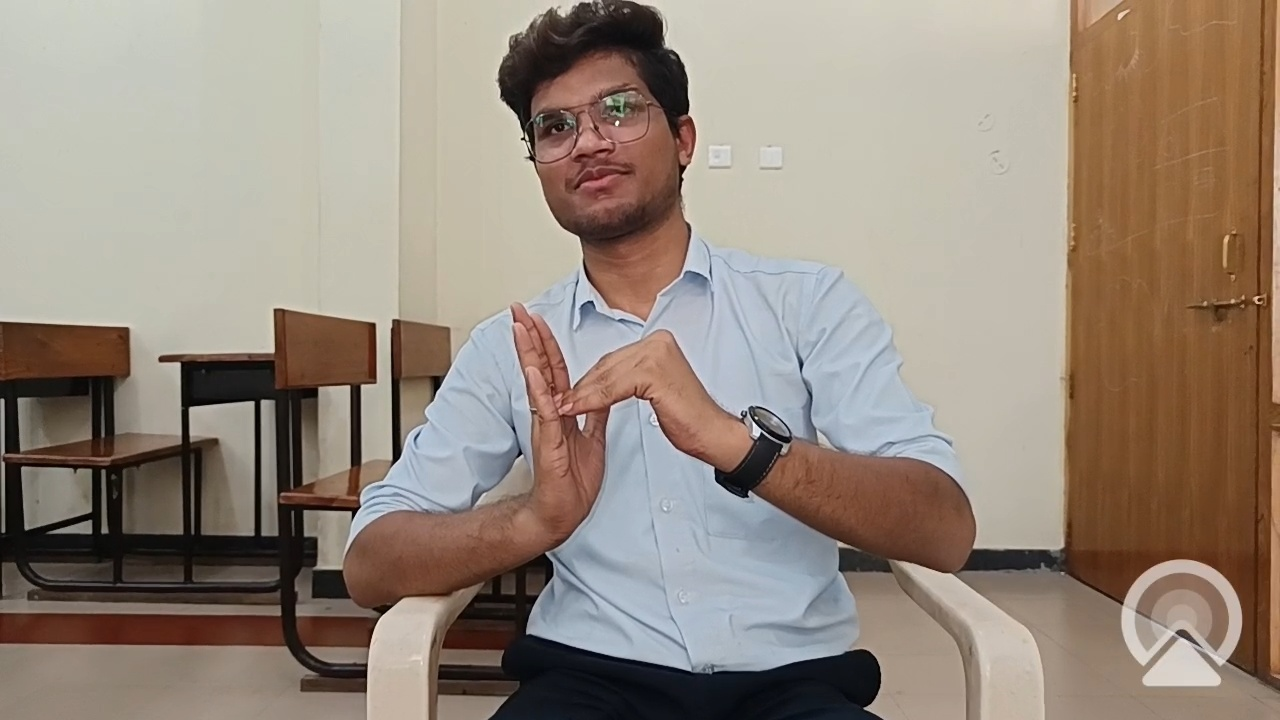Z: (473, 286, 762, 566)
